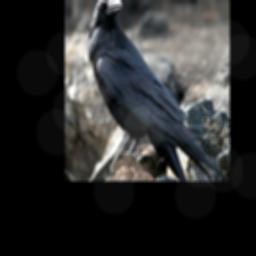Crow: (86, 0, 227, 181)
